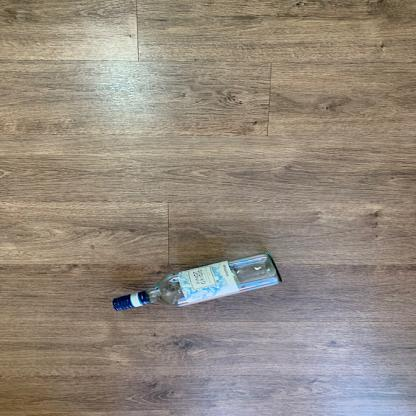trash: (109, 250, 287, 318)
